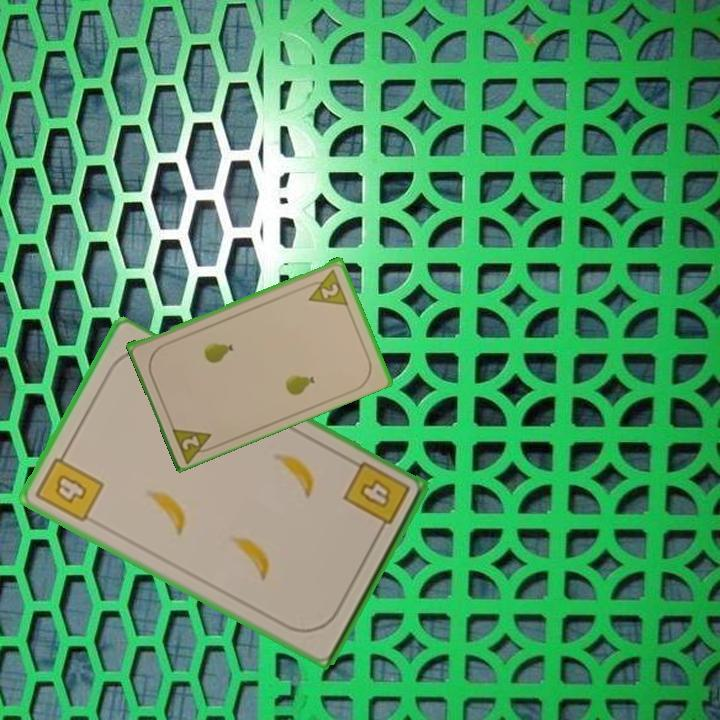2p: (168, 422, 220, 464), (301, 265, 351, 308)
4b: (31, 445, 107, 526), (339, 458, 413, 539)
